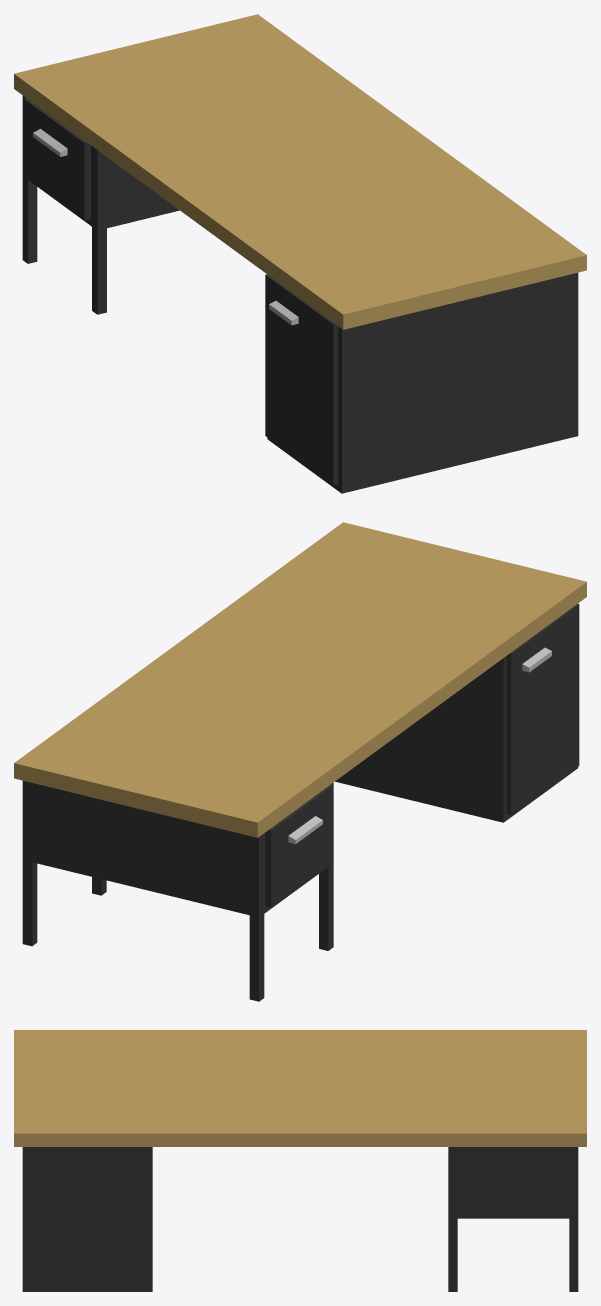
File: Skrivebord.fbx
3 views of the same model, one above another, from view 1: azimuth 30°, elevation 25°; view 2: azimuth 150°, elevation 25°; view 3: azimuth 270°, elevation 25° (orthographic). The views are drawn at different scales.
Visible parts, largest first — view 1: Skrivebord, Skabslåge, Skuffe; view 2: Skrivebord, Skabslåge, Skuffe; view 3: Skrivebord.
Boxes of the visible parts, bbox=[...] form: Skrivebord: bbox=[14, 14, 586, 493]; Skabslåge: bbox=[265, 274, 338, 485]; Skuffe: bbox=[23, 98, 90, 220]; Skrivebord: bbox=[14, 522, 586, 1001]; Skabslåge: bbox=[506, 604, 579, 815]; Skuffe: bbox=[265, 785, 332, 907]; Skrivebord: bbox=[14, 1030, 586, 1291].
Size of the model in its own units: 149 by 103 by 335.
